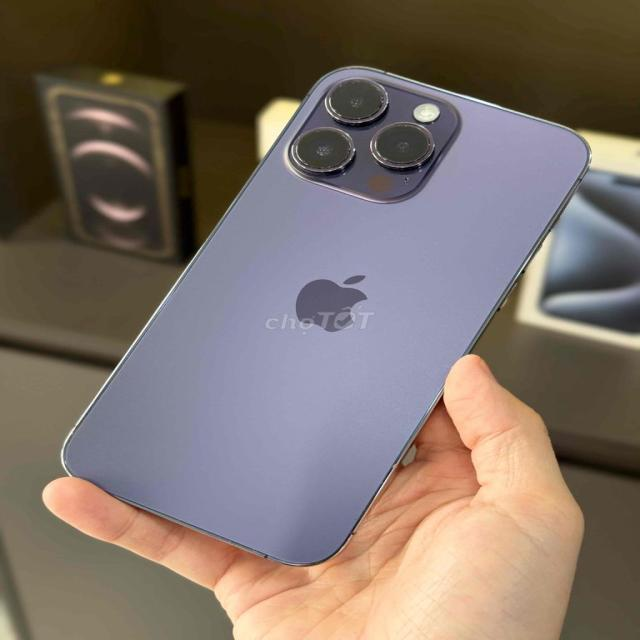gen_14: (59, 61, 578, 578)
